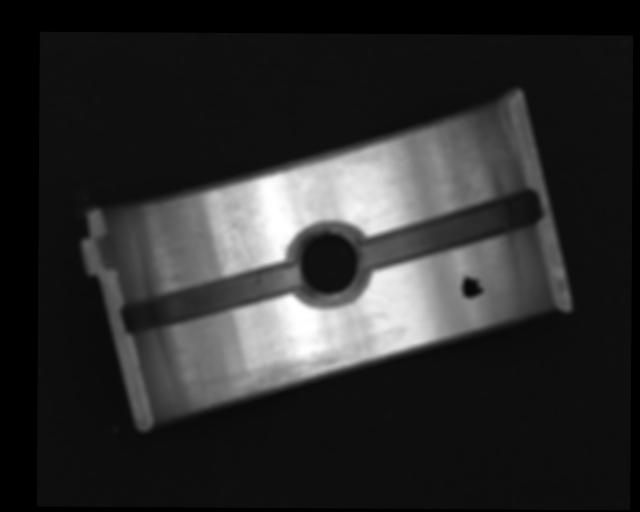blot: (459, 271, 486, 300)
bruise: (190, 220, 212, 240), (396, 150, 409, 166)
gap: (360, 190, 538, 271), (119, 263, 299, 333)
hole: (288, 221, 369, 310)
nick: (231, 207, 257, 269)
scratch: (199, 348, 357, 409)
